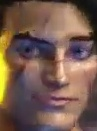kevin: (7, 4, 96, 130)
